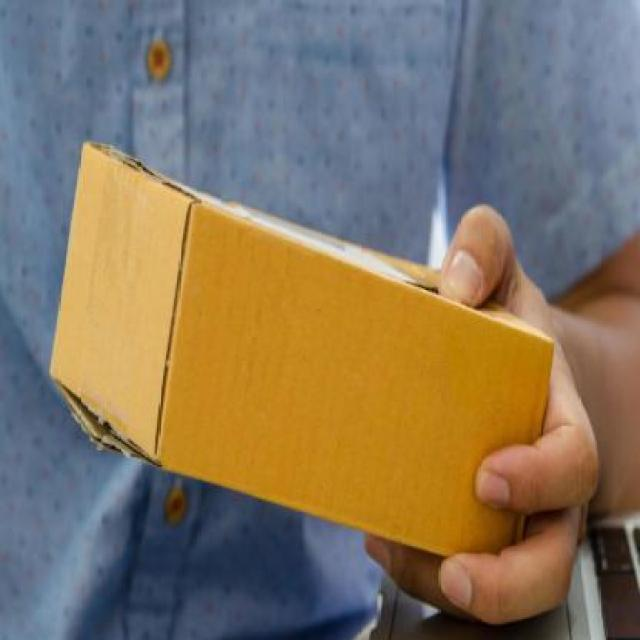box: (44, 118, 559, 606)
